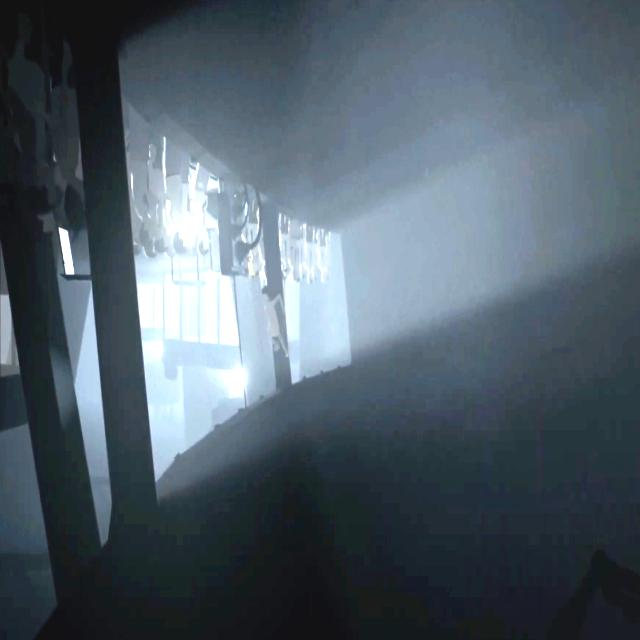boy: (262, 290, 290, 360)
human: (52, 42, 88, 225), (132, 119, 154, 246), (164, 144, 187, 255), (188, 164, 210, 256), (245, 208, 258, 276), (290, 223, 302, 284), (278, 216, 290, 276), (304, 230, 315, 284), (317, 235, 329, 284)
interactible: (217, 180, 263, 279)
